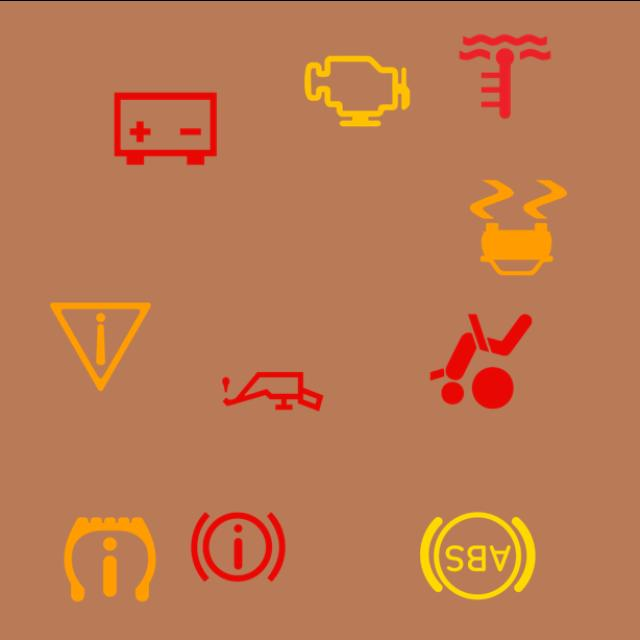Anti Lock Braking System: (415, 492, 541, 618)
Braking System Issue: (175, 482, 301, 608)
Charging System Issue: (102, 64, 228, 190)
Check Engine: (294, 27, 420, 153)
Electronic Stability Problem -ESP-: (456, 163, 582, 290)
Engine Overheating Warning Light: (442, 12, 568, 138)
Low Engine Oil Warning Light: (210, 328, 336, 453)
Low Tire Pressure Warning Light: (47, 495, 173, 621)
Master warning light: (38, 282, 164, 408)
SRS-Airbag: (418, 297, 544, 423)
